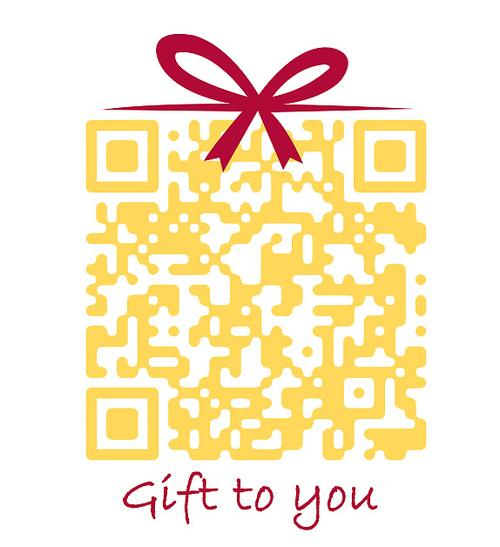QRCode: (79, 115, 442, 467)
